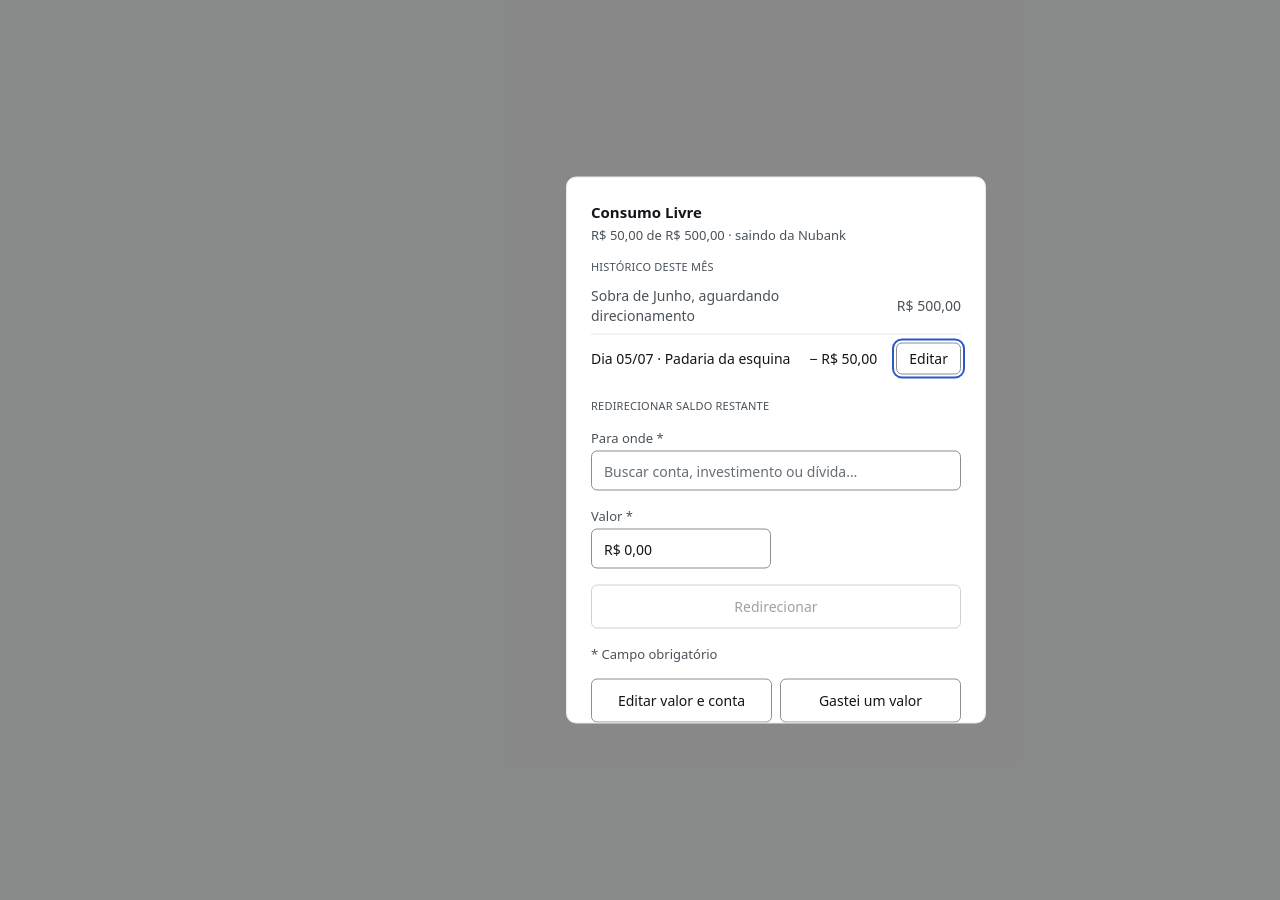
Detalhe do Consumo Livre — edição inline de um gasto (Figma 46:8, nós 46:26/46:28/46:33) › 164:7 — o Rótulo já gravado volta preenchido ao reabrir a edição
Click the button "Editar" at (929,358), box [896, 342, 961, 374]
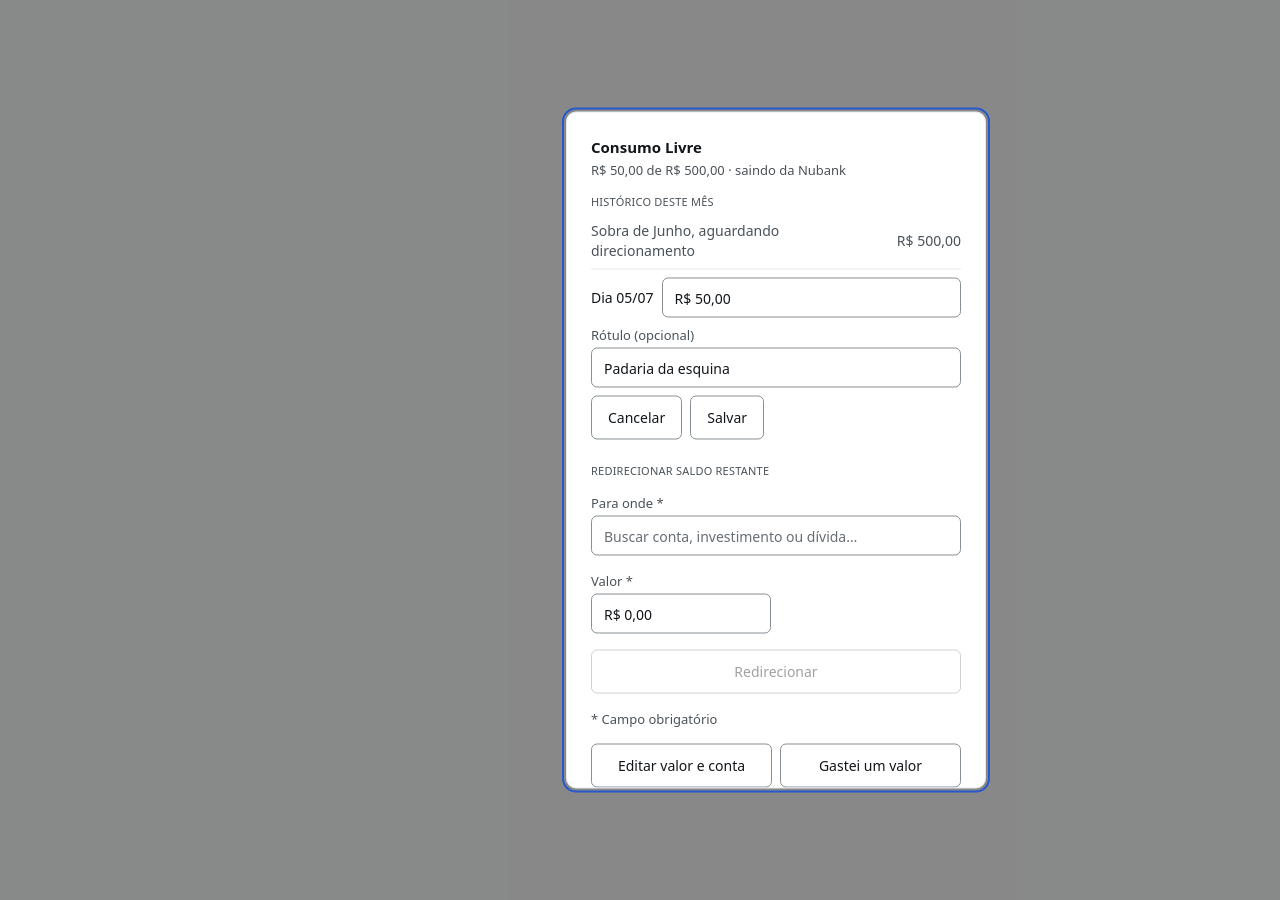
Now the field labelled "Rótulo (opcional)" holds "Padaria da esquina", box [591, 348, 961, 388]
